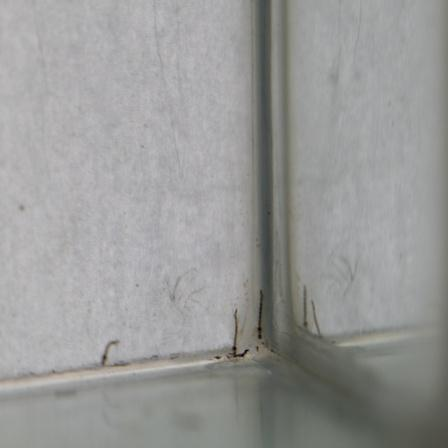Jentik-Nyamuk: (249, 287, 267, 340), (228, 307, 242, 356)
